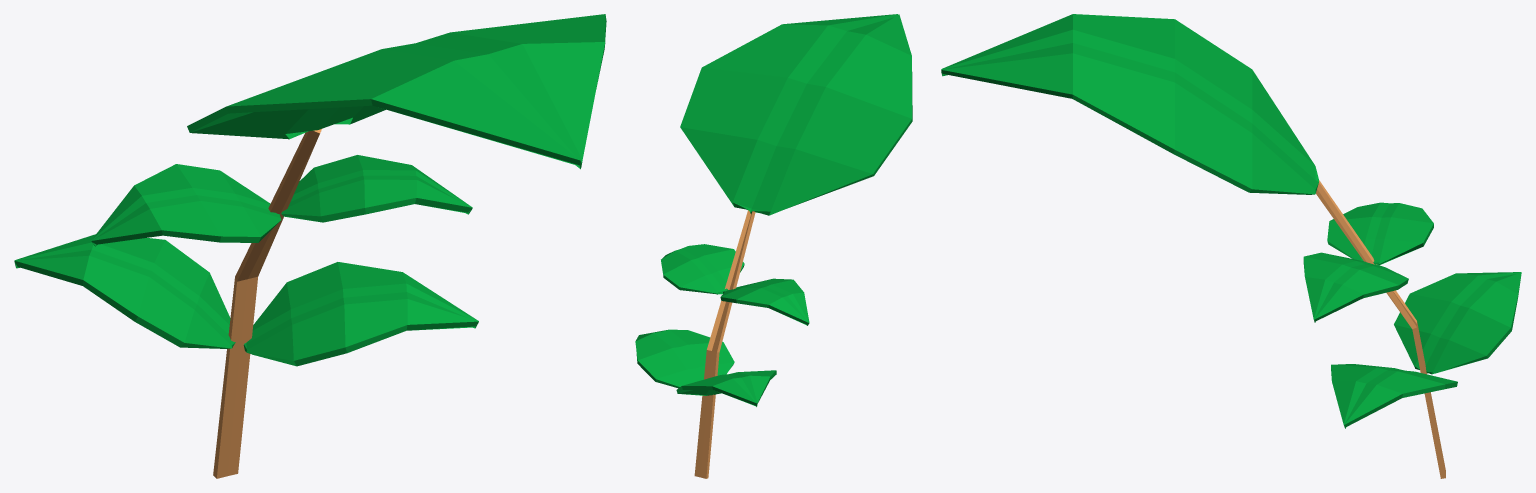
The model's file is specially_for_bruno2 (1).fbx.
3 renders of one model, left to right at view 1: azimuth 30°, elevation 25°; view 2: azimuth 150°, elevation 25°; view 3: azimuth 270°, elevation 25°, orthographic. The views are drawn at different scales.
Visible parts, largest first — view 1: Plane.004; view 2: Plane.004; view 3: Plane.004.
Part boxes in pixels (box(x1,y1,x2,y2)): Plane.004: box(14, 14, 606, 478); Plane.004: box(635, 14, 912, 478); Plane.004: box(941, 14, 1521, 478).
Size of the model in its own units: 413 by 640 by 776.
